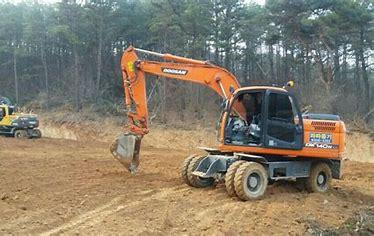C_E: (107, 40, 347, 201)
